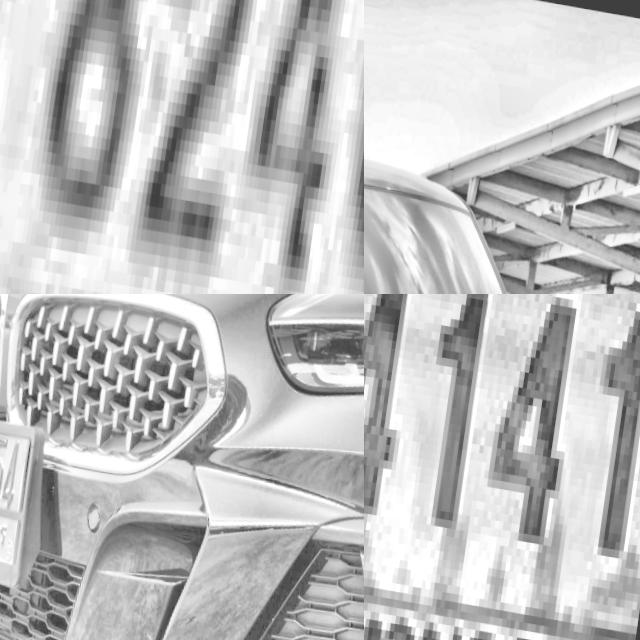license-plate: (0, 0, 364, 294), (364, 294, 640, 640), (0, 395, 61, 604)
